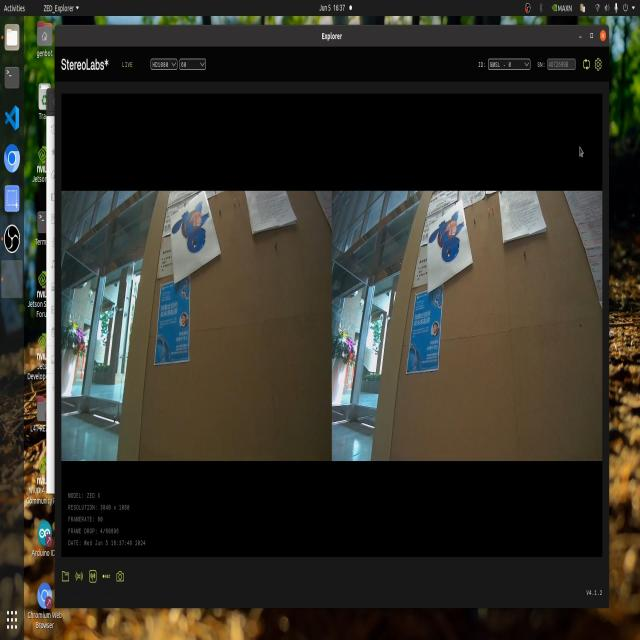blue: (172, 206, 216, 265), (432, 218, 472, 275)
